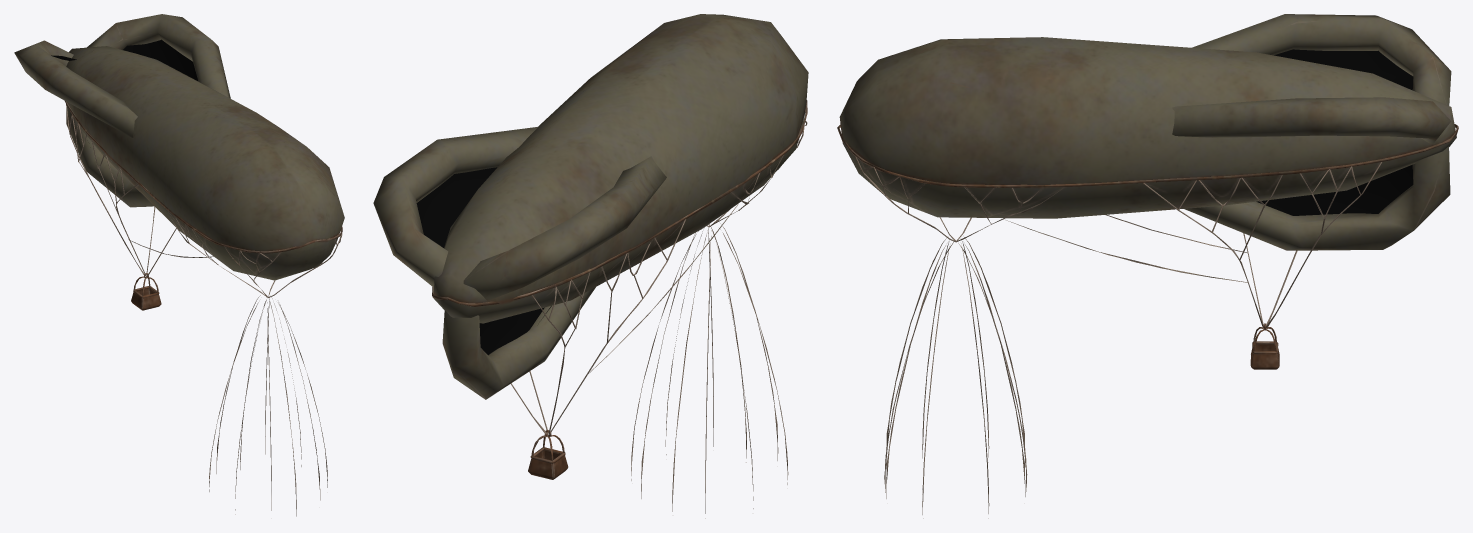
The model's file is caquot.dae.
3 views of the same model, side by side, from view 1: azimuth 30°, elevation 25°; view 2: azimuth 150°, elevation 25°; view 3: azimuth 270°, elevation 25° (orthographic). The views are drawn at different scales.
Visible parts, largest first — view 1: Balon.1; view 2: Balon.1; view 3: Balon.1.
Part boxes in pixels (bbox=[...]): Balon.1: bbox=[14, 14, 344, 516]; Balon.1: bbox=[373, 14, 808, 518]; Balon.1: bbox=[837, 14, 1458, 518].
Bounding box in the file's own units: 4.06 × 10.67 × 8.49.
